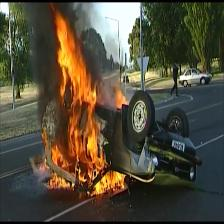fire: (46, 6, 134, 203)
smoke: (15, 4, 57, 125)
